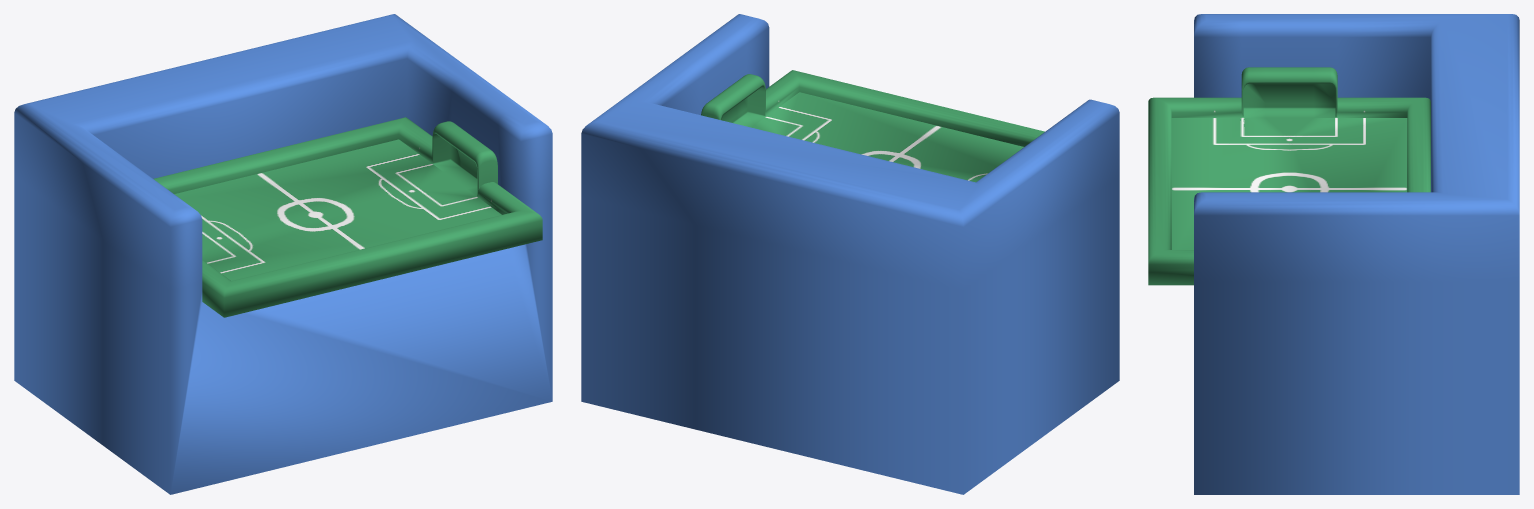
File: FootballField.glb
The picture shows the model from 3 angles, left to right: view 1: azimuth 30°, elevation 25°; view 2: azimuth 150°, elevation 25°; view 3: azimuth 270°, elevation 25°; orthographic projection. The views are drawn at different scales.
Parts seen in each view (by area): view 1: Cube.001, Cube; view 2: Cube.001, Cube; view 3: Cube.001, Cube.
Boxes of the visible parts, x1,y1,x2,y2 form: Cube.001: (14,14,552,494); Cube: (153,117,542,317); Cube.001: (581,14,1119,494); Cube: (701,70,1044,182); Cube.001: (1194,14,1519,494); Cube: (1148,67,1430,285).
Size of the model in its own units: 27.37 by 19.05 by 22.09.
Materials: 2 (1 with a texture image).
